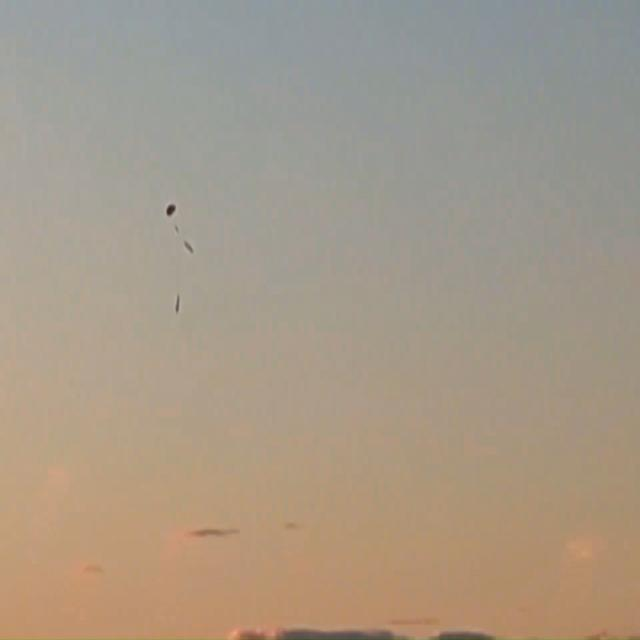Rocket: (176, 294, 180, 312)
